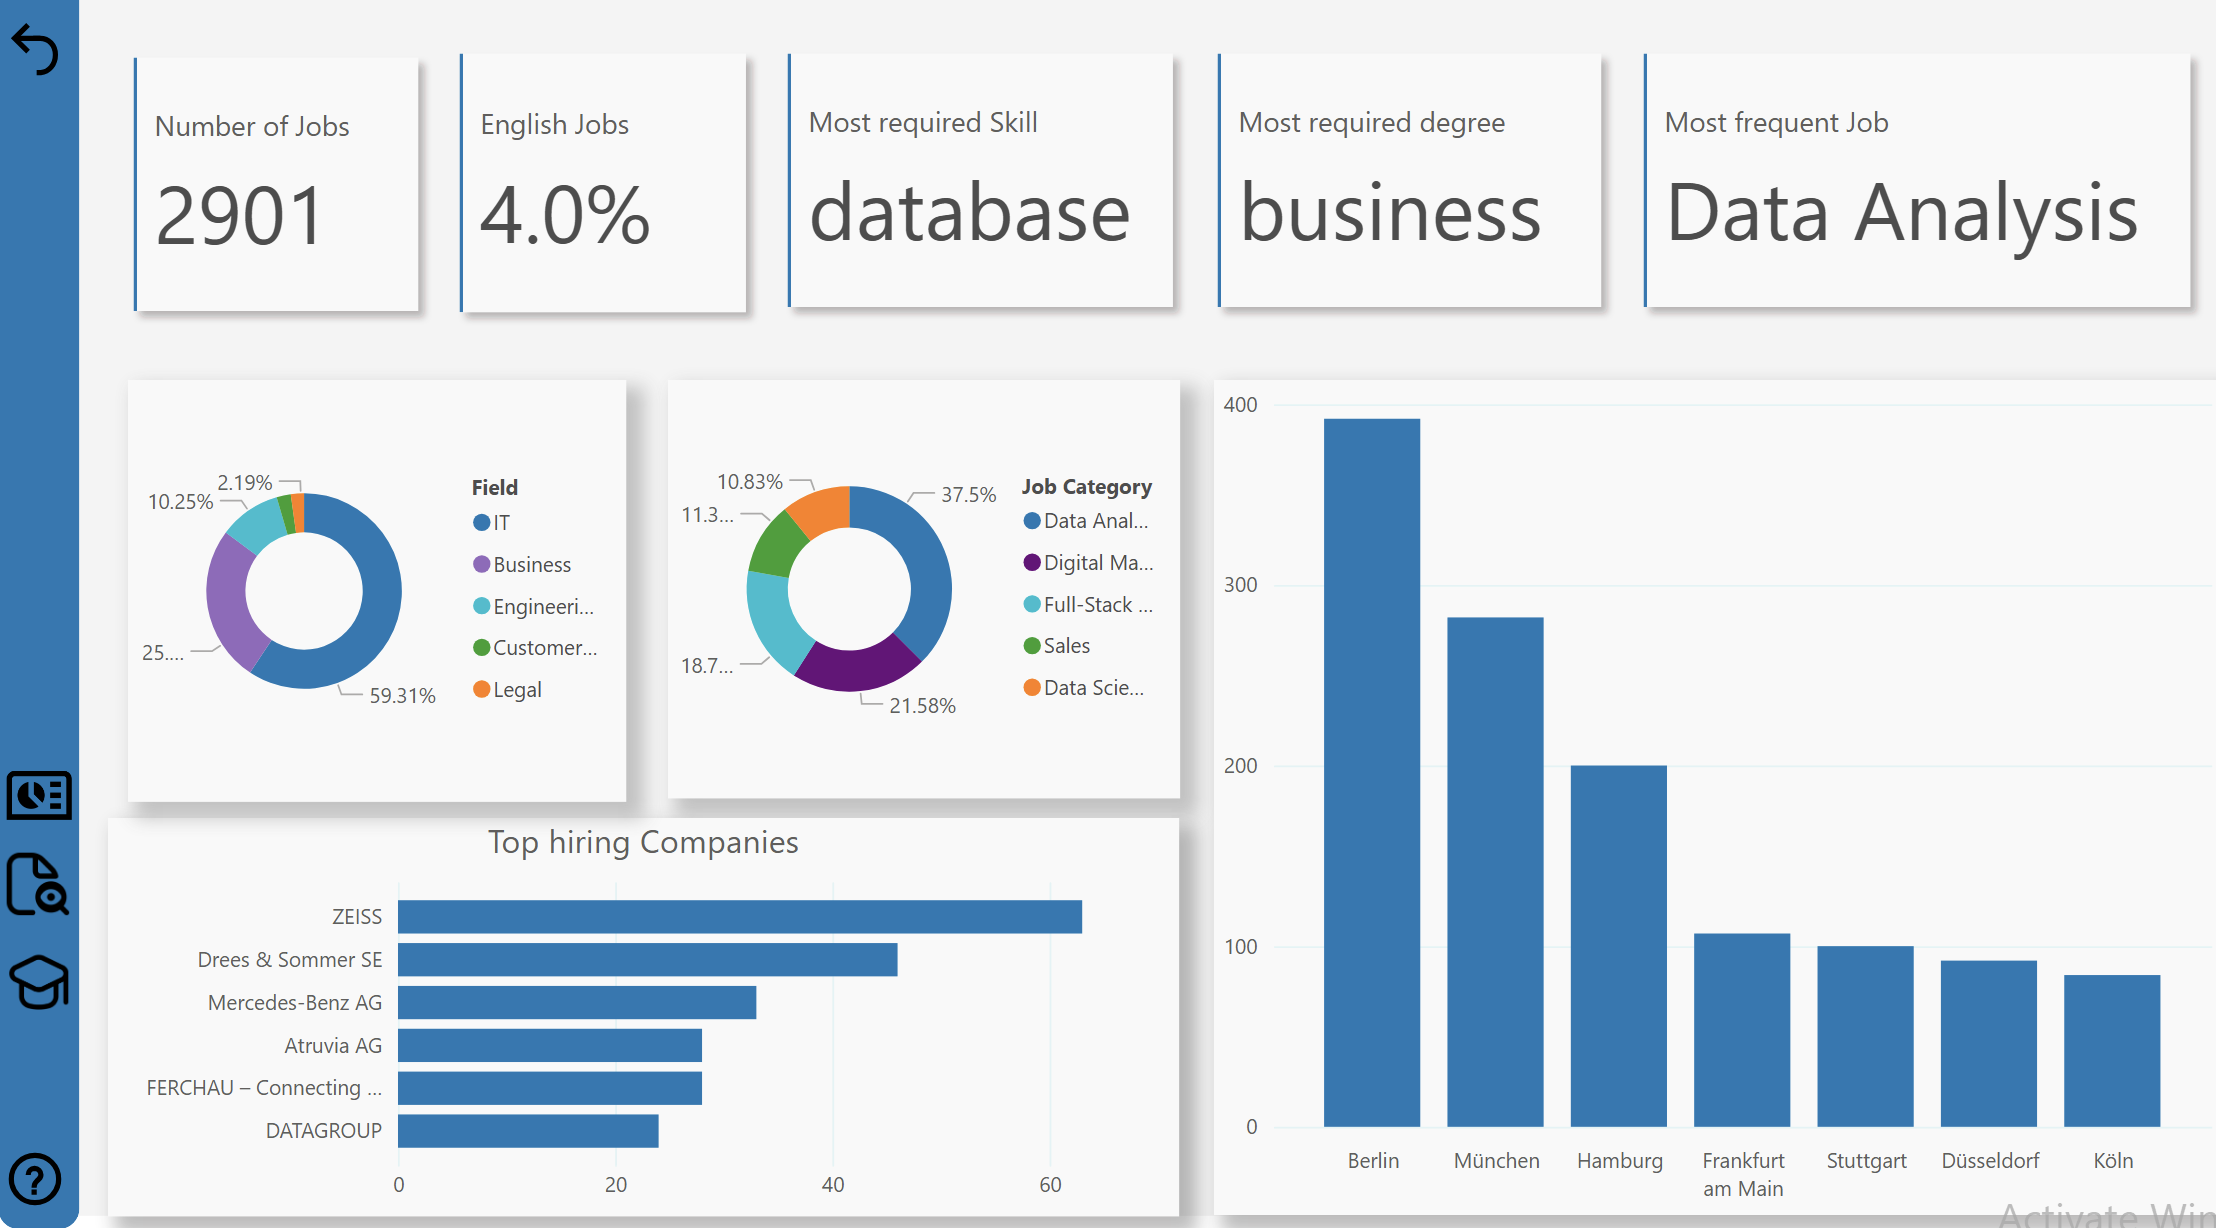

The page's visual inventory and layout, read from the dashboard file:
{"tool":"powerbi","page":{"name":"overview","canvas":[1280,720],"ordinal":0},"visuals":[{"type":"shape","title":"background","box":[0,0,1280,711.8],"z":0},{"type":"cardVisual","fields":{"Data":["mesures_table.total_jobs"]},"box":[61.1,27.6,198.1,180.9],"z":1000},{"type":"donutChart","fields":{"Category":["total job category3.categories_sub_category_3"],"Y":["Sum(total job category3.frequency)"]},"box":[385.9,230.4,294.9,240.8],"z":2000},{"type":"clusteredBarChart","title":"Top hiring Companies","fields":{"Category":["general.company"],"Y":["CountNonNull(general.job_id)"]},"box":[63.3,482.5,616.9,229.4],"z":3000},{"type":"donutChart","fields":{"Category":["total job category.categories_sub_category_1"],"Y":["Sum(total job category.frequency)"]},"box":[74.9,230.4,286.8,243.1],"z":4000},{"type":"clusteredColumnChart","fields":{"Category":["general.location"],"Y":["CountNonNull(general.job_id)"]},"box":[700,230.4,580,481.2],"z":5000},{"type":"cardVisual","fields":{"Data":["mesures_table.% english jobs"]},"box":[249.1,25.3,199.3,183.2],"z":6000},{"type":"cardVisual","fields":{"Data":["mesures_table.most frequent skill"]},"box":[438.3,25.3,256.9,180.9],"z":7000},{"type":"cardVisual","fields":{"Data":["mesures_table.top job category"]},"box":[930.8,25.3,349.1,180.9],"z":8000},{"type":"cardVisual","fields":{"Data":["mesures_table.most requested degree"]},"box":[685.2,25.3,255.7,180.9],"z":9000},{"type":"shape","box":[0,0,47,719.4],"z":10000},{"type":"image","box":[0,555.3,47.2,43.8],"z":11000},{"type":"image","box":[0,497.7,46.1,46.1],"z":12000},{"type":"actionButton","box":[1.2,19.6,44.9,40.3],"z":13000},{"type":"actionButton","box":[1.2,670.5,44.9,40.3],"z":14000},{"type":"image","box":[0,445.6,47.5,47.5],"z":15000}]}

Visuals, with their boxes on the page's 1280x720 design canvas (x1, y1, x2, y2). These are canvas units, not pixel positions in the 2216x1228 screenshot, which may show the page scaled, cropped or inside an application window:
"background" shape: 0/0/1280/712
cardVisual - mesures_table.total_jobs: 61/28/259/208
donutChart - total job category3.categories_sub_category_3 x Sum(total job category3.frequency): 386/230/681/471
"Top hiring Companies" clusteredBarChart: 63/482/680/712
donutChart - total job category.categories_sub_category_1 x Sum(total job category.frequency): 75/230/362/474
clusteredColumnChart - general.location x CountNonNull(general.job_id): 700/230/1280/712
cardVisual - mesures_table.% english jobs: 249/25/448/208
cardVisual - mesures_table.most frequent skill: 438/25/695/206
cardVisual - mesures_table.top job category: 931/25/1280/206
cardVisual - mesures_table.most requested degree: 685/25/941/206
shape: 0/0/47/719
image: 0/555/47/599
image: 0/498/46/544
actionButton: 1/20/46/60
actionButton: 1/670/46/711
image: 0/446/48/493
